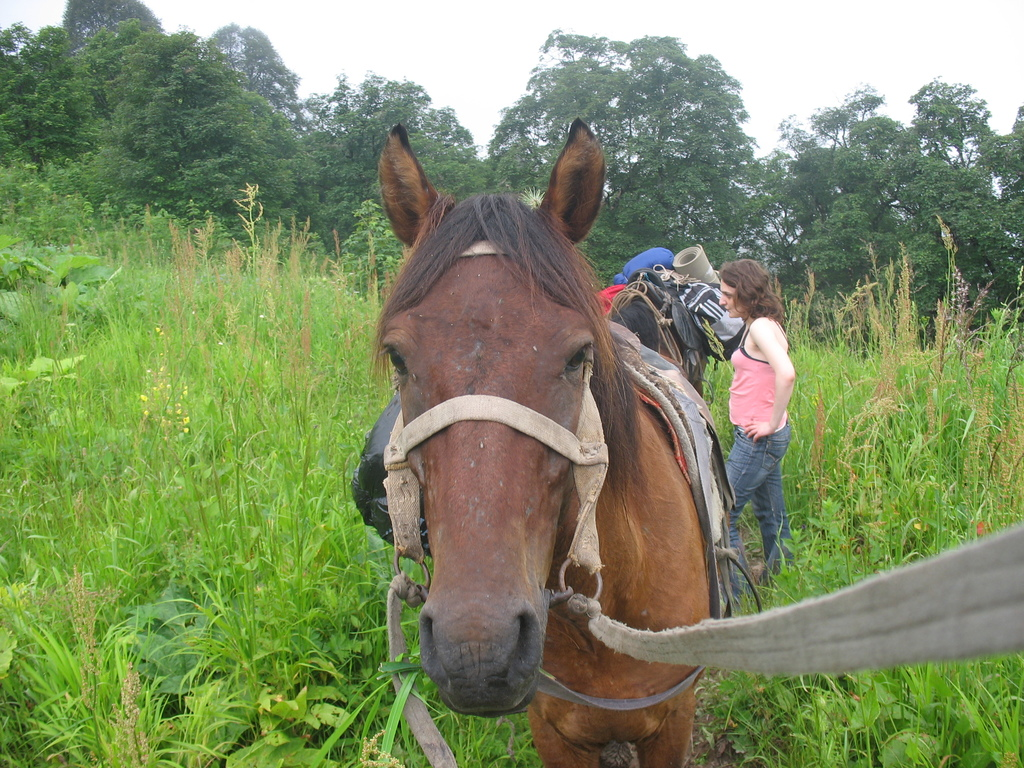Person: (718, 258, 795, 598)
